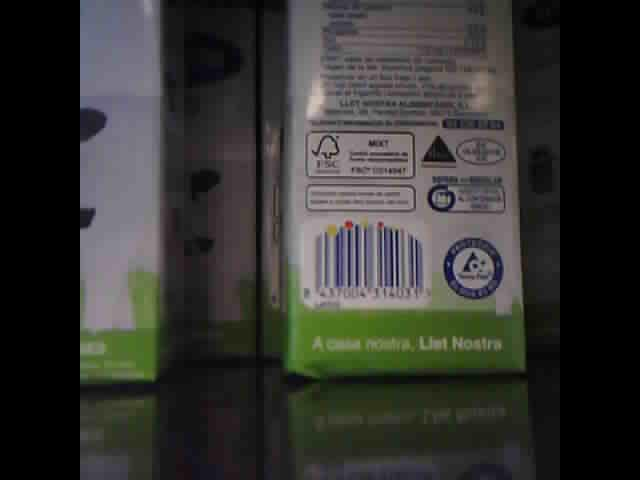leche: (283, 6, 513, 380), (83, 2, 182, 388), (184, 7, 256, 363), (512, 1, 559, 347), (258, 6, 289, 358)
